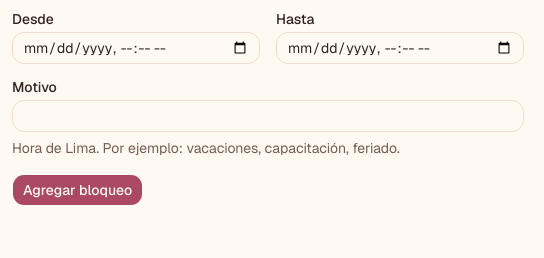
Test: FormularioBloqueo › envía lo escrito
Type "2026-12-24T09:00" into the field labelled "Desde" at (136,48), box [12,32,260,64]
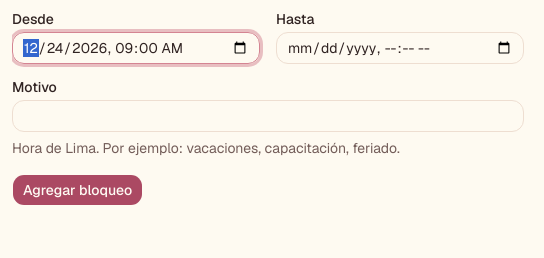
Type "2026-12-26T18:00" into the field labelled "Hasta" at (400,48), box [276,32,524,64]
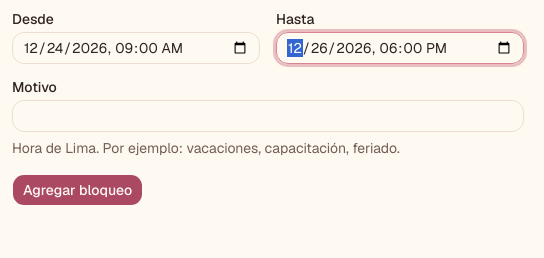
Type "Vacaciones" into the field labelled "Motivo" at (268,116), box [12,100,524,132]
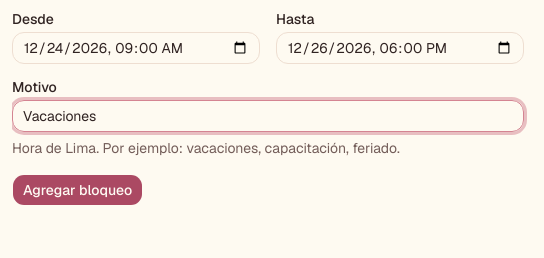
Click the button "Agregar bloqueo" at (78,190), box [12,174,143,206]
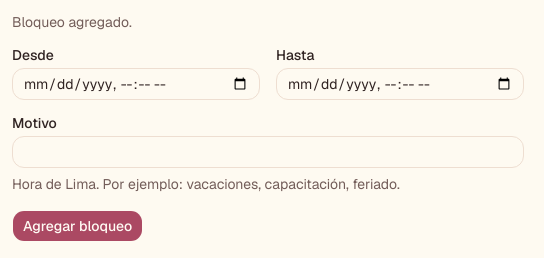
expect the message reads "Bloqueo agregado.": met, box [12,13,132,31]
